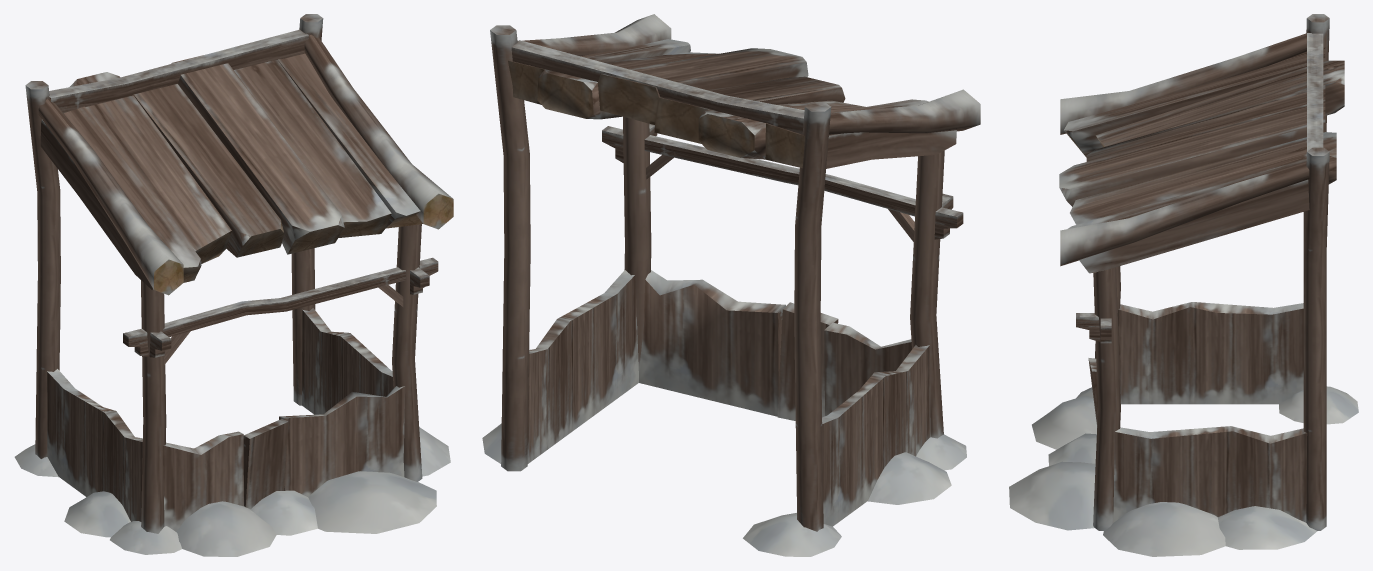
File: snow_b_r01.fbx
3 views of the same model, side by side, from view 1: azimuth 30°, elevation 25°; view 2: azimuth 150°, elevation 25°; view 3: azimuth 270°, elevation 25° (orthographic). The views are drawn at different scales.
Parts seen in each view (by area): view 1: snow_b_r01; view 2: snow_b_r01; view 3: snow_b_r01.
Boxes of the visible parts, left/top/right/bottom form: snow_b_r01: left=14, top=14, right=453, bottom=556; snow_b_r01: left=482, top=14, right=980, bottom=556; snow_b_r01: left=1009, top=14, right=1358, bottom=556.
Size of the model in its own units: 407 by 405 by 338.
